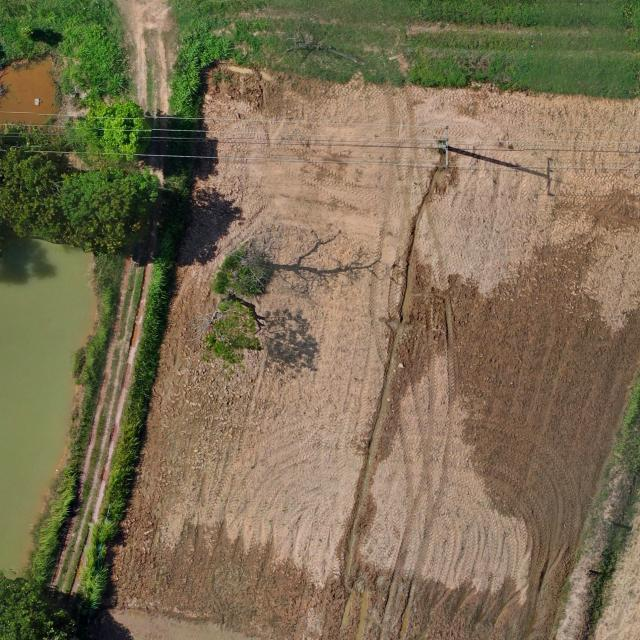Tree: (181, 234, 278, 364), (56, 164, 169, 269), (0, 569, 104, 640), (84, 101, 151, 164), (0, 123, 13, 278)
